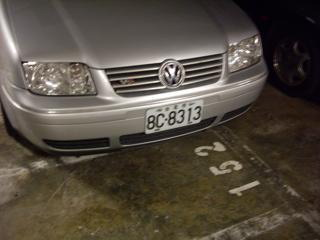plate: (144, 102, 202, 132)
